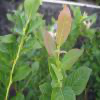Blueberry leaf: (66, 66, 92, 96), (56, 7, 72, 52), (61, 47, 88, 71), (42, 27, 58, 58), (48, 85, 77, 100)
